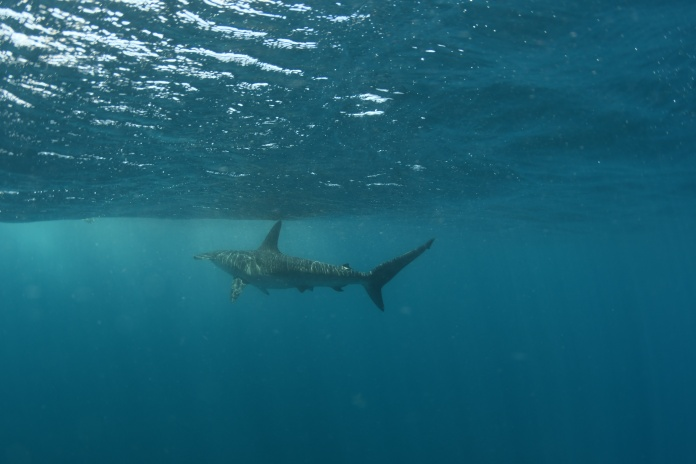Hammer: (164, 191, 471, 328)
